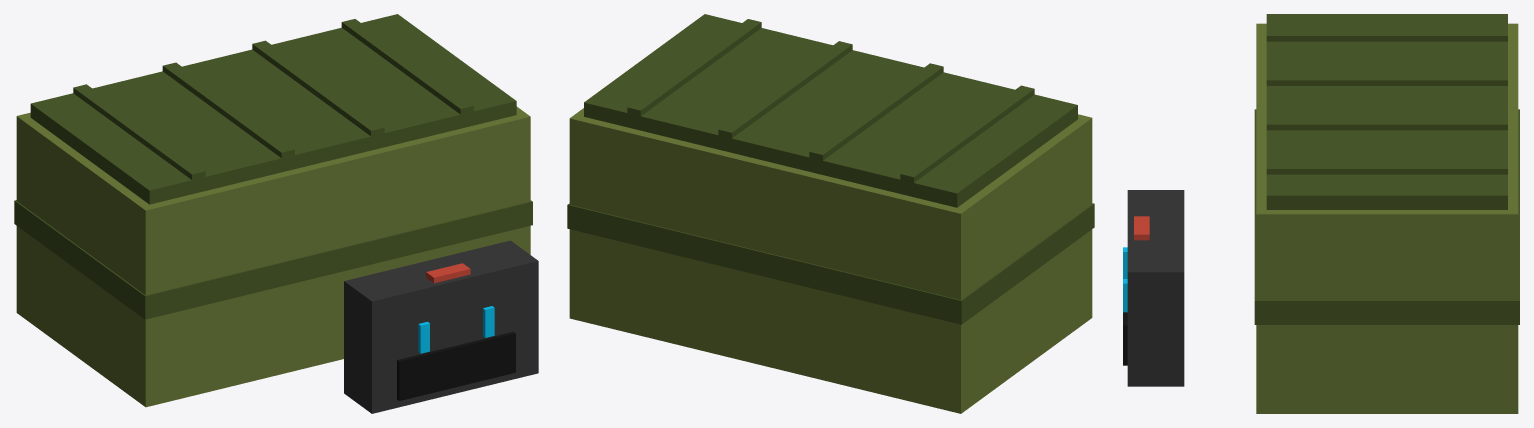
The model's file is ce_ammo2_railhc_sabot_c.obj.
3 views of the same model, side by side, from view 1: azimuth 30°, elevation 25°; view 2: azimuth 150°, elevation 25°; view 3: azimuth 270°, elevation 25° (orthographic).
Visible parts, largest first — view 1: ce_ammo2_railhc_sabot_c_0, ce_ammo2_railhc_sabot_c_1, ce_ammo2_railhc_sabot_c_7, ce_ammo2_railhc_sabot_c_2, ce_ammo2_railhc_sabot_c_9, ce_ammo2_railhc_sabot_c_4, ce_ammo2_railhc_sabot_c_5, ce_ammo2_railhc_sabot_c_3, ce_ammo2_railhc_sabot_c_6, ce_ammo2_railhc_sabot_c_8; view 2: ce_ammo2_railhc_sabot_c_0, ce_ammo2_railhc_sabot_c_1, ce_ammo2_railhc_sabot_c_2, ce_ammo2_railhc_sabot_c_3, ce_ammo2_railhc_sabot_c_4, ce_ammo2_railhc_sabot_c_5, ce_ammo2_railhc_sabot_c_6; view 3: ce_ammo2_railhc_sabot_c_0, ce_ammo2_railhc_sabot_c_1, ce_ammo2_railhc_sabot_c_7, ce_ammo2_railhc_sabot_c_2, ce_ammo2_railhc_sabot_c_3, ce_ammo2_railhc_sabot_c_6, ce_ammo2_railhc_sabot_c_4, ce_ammo2_railhc_sabot_c_5, ce_ammo2_railhc_sabot_c_8.
Part boxes in pixels (bbox=[...]): ce_ammo2_railhc_sabot_c_0: bbox=[16, 106, 530, 407]; ce_ammo2_railhc_sabot_c_1: bbox=[30, 14, 516, 204]; ce_ammo2_railhc_sabot_c_7: bbox=[344, 240, 538, 413]; ce_ammo2_railhc_sabot_c_2: bbox=[14, 200, 532, 319]; ce_ammo2_railhc_sabot_c_9: bbox=[397, 331, 515, 400]; ce_ammo2_railhc_sabot_c_4: bbox=[162, 62, 294, 158]; ce_ammo2_railhc_sabot_c_5: bbox=[252, 40, 384, 136]; ce_ammo2_railhc_sabot_c_3: bbox=[73, 84, 205, 179]; ce_ammo2_railhc_sabot_c_6: bbox=[341, 19, 473, 114]; ce_ammo2_railhc_sabot_c_8: bbox=[426, 263, 470, 283]; ce_ammo2_railhc_sabot_c_0: bbox=[569, 108, 1092, 413]; ce_ammo2_railhc_sabot_c_1: bbox=[584, 14, 1077, 207]; ce_ammo2_railhc_sabot_c_2: bbox=[567, 203, 1094, 324]; ce_ammo2_railhc_sabot_c_3: bbox=[900, 85, 1034, 182]; ce_ammo2_railhc_sabot_c_4: bbox=[809, 63, 943, 160]; ce_ammo2_railhc_sabot_c_5: bbox=[718, 41, 852, 138]; ce_ammo2_railhc_sabot_c_6: bbox=[627, 19, 761, 116]; ce_ammo2_railhc_sabot_c_0: bbox=[1256, 23, 1518, 413]; ce_ammo2_railhc_sabot_c_1: bbox=[1266, 14, 1507, 209]; ce_ammo2_railhc_sabot_c_7: bbox=[1127, 190, 1184, 386]; ce_ammo2_railhc_sabot_c_2: bbox=[1254, 109, 1519, 324]; ce_ammo2_railhc_sabot_c_3: bbox=[1266, 29, 1507, 41]; ce_ammo2_railhc_sabot_c_6: bbox=[1266, 162, 1507, 174]; ce_ammo2_railhc_sabot_c_4: bbox=[1266, 73, 1507, 85]; ce_ammo2_railhc_sabot_c_5: bbox=[1266, 118, 1507, 130]; ce_ammo2_railhc_sabot_c_8: bbox=[1134, 216, 1149, 240].
Size of the model in its own units: 0.866 by 0.462 by 0.757.
